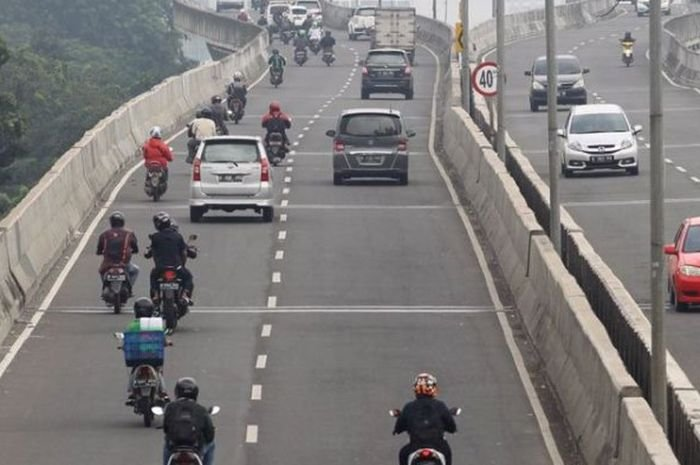mobil: (190, 130, 275, 232), (326, 104, 414, 193), (562, 102, 647, 183), (528, 52, 588, 112), (363, 54, 415, 102)
motor: (143, 259, 198, 331), (99, 255, 134, 322), (127, 364, 160, 424), (140, 155, 172, 209), (262, 117, 286, 166)
